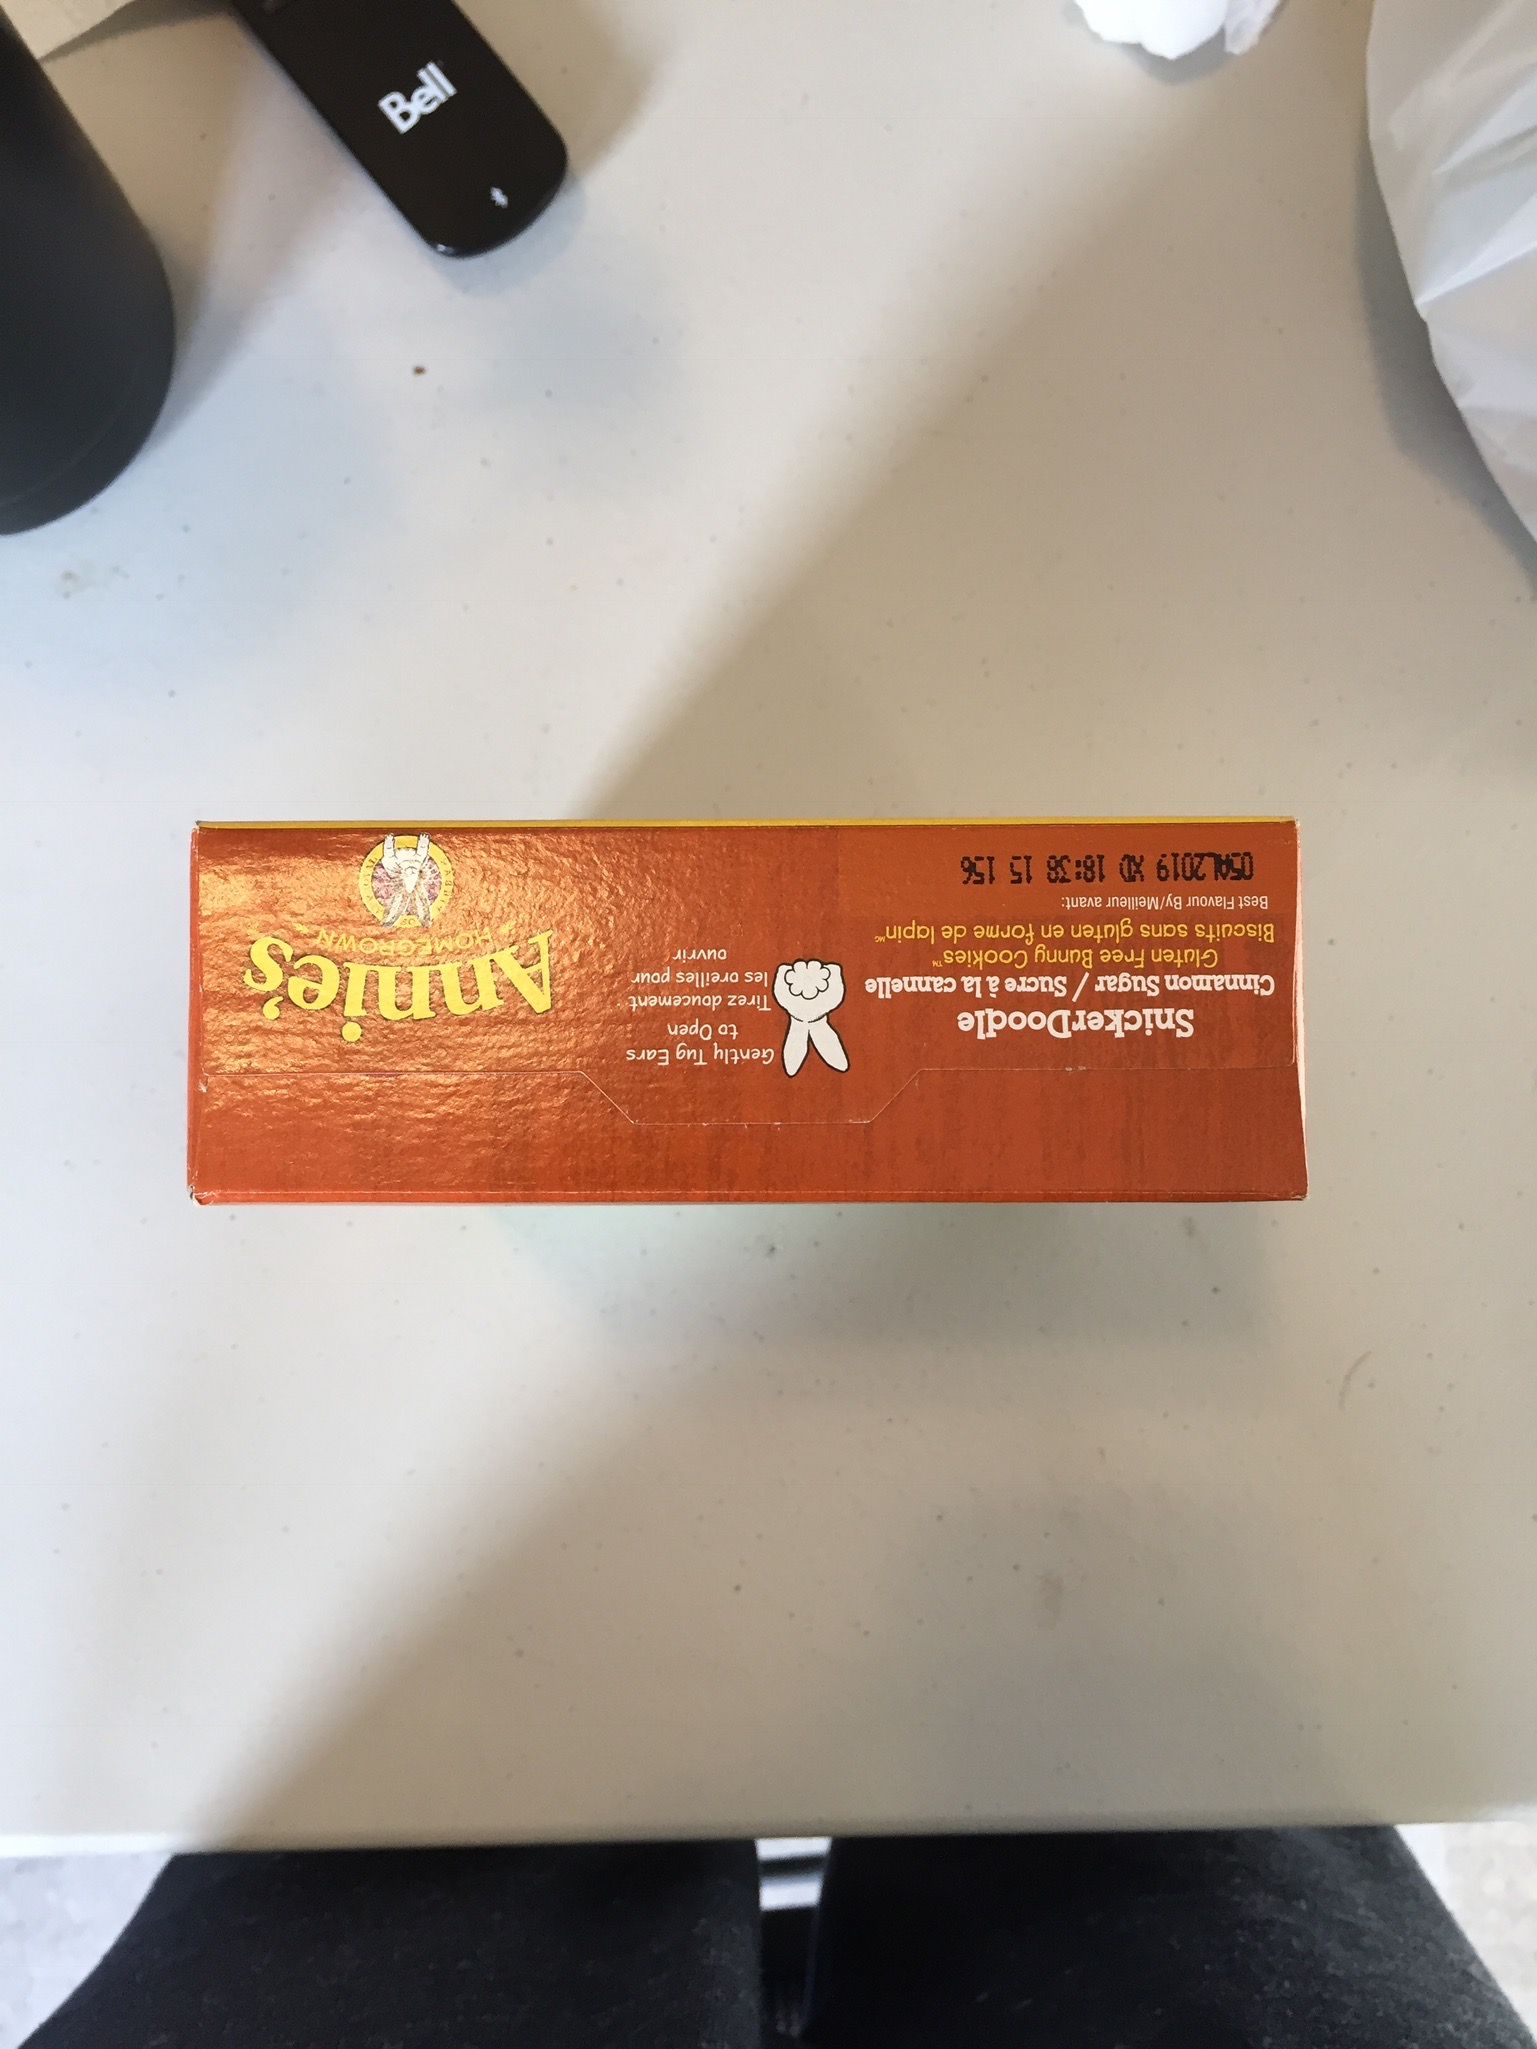annies_snickerdoodle_cinnamon_sugar: (203, 830, 1285, 1200)
